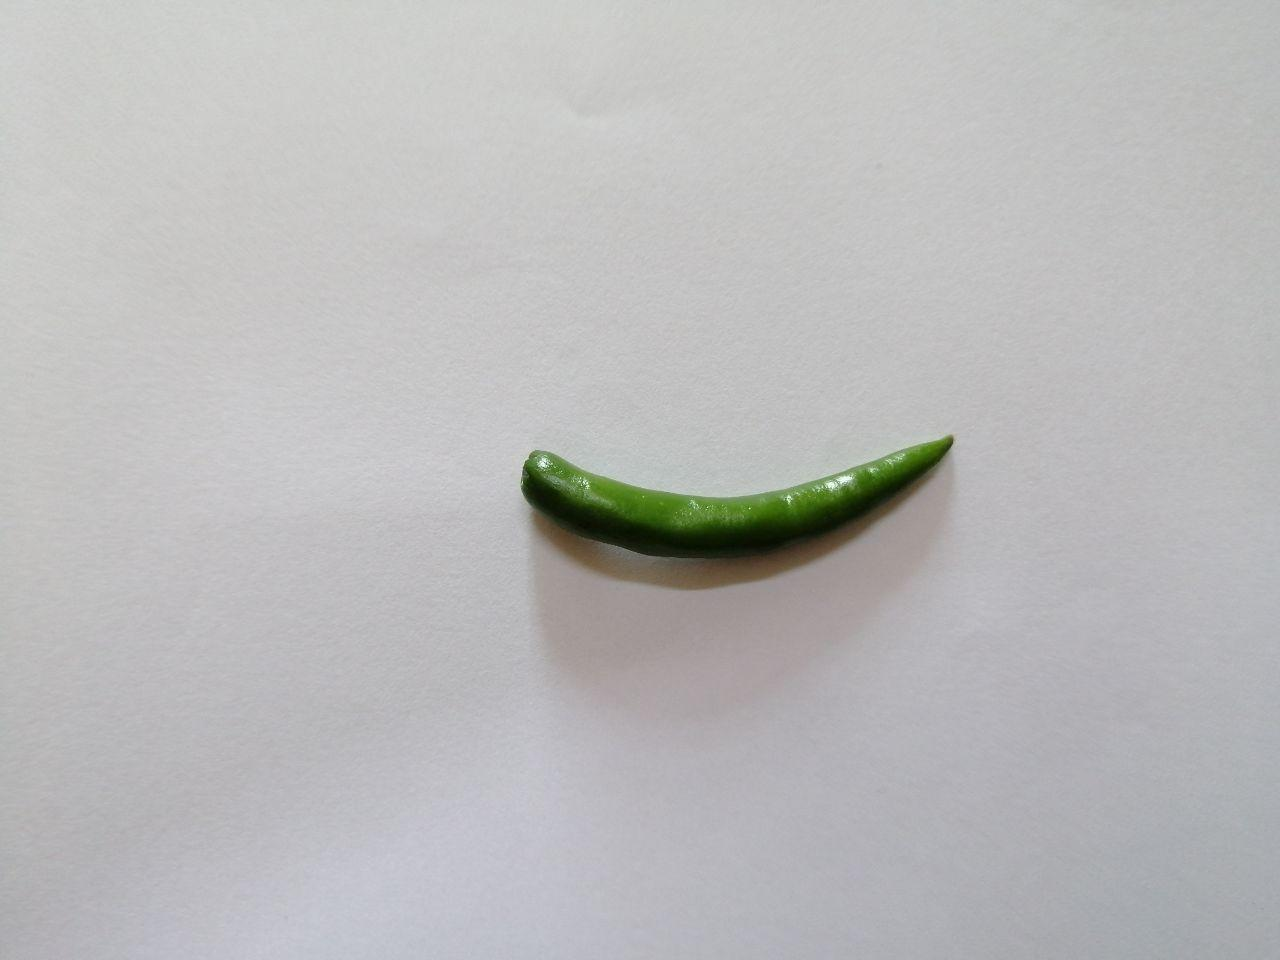lada hijau: (508, 408, 985, 577)
